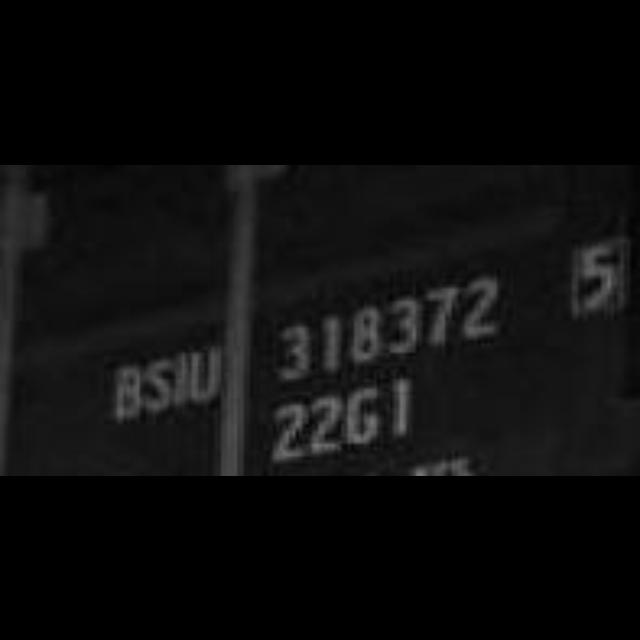1: (388, 370, 419, 450), (319, 307, 349, 385)
2: (264, 392, 308, 476), (460, 267, 506, 347), (310, 389, 344, 467)
3: (276, 316, 318, 389), (385, 288, 423, 366)
5: (572, 240, 622, 314)
7: (424, 279, 460, 353)
8: (348, 298, 386, 372)
b: (111, 355, 145, 429)
g: (341, 377, 383, 457)
i: (173, 346, 191, 418)
s: (143, 352, 173, 420)
u: (188, 336, 228, 416)
